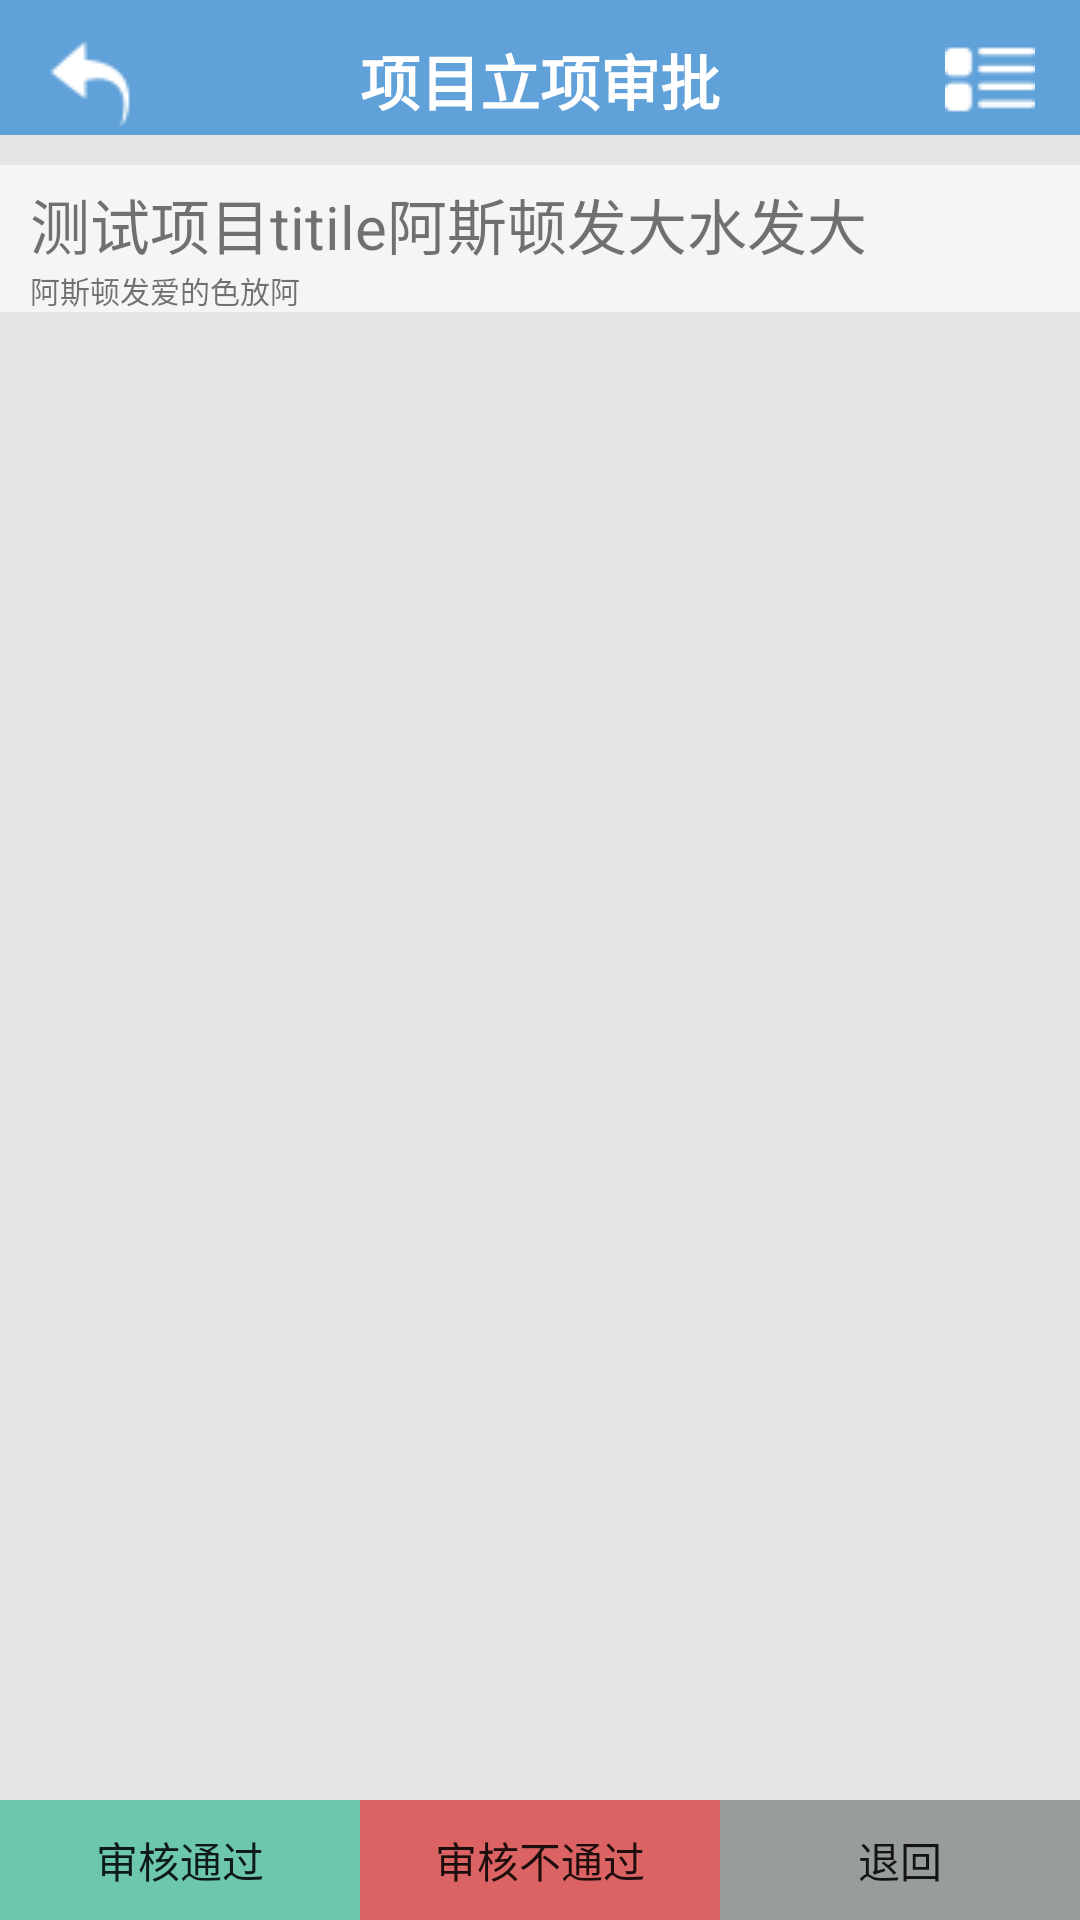

Icons on this 1080x1920 Android screen, each with the point to tap as (x,y):
back: (90,84)
detail: (990,79)
